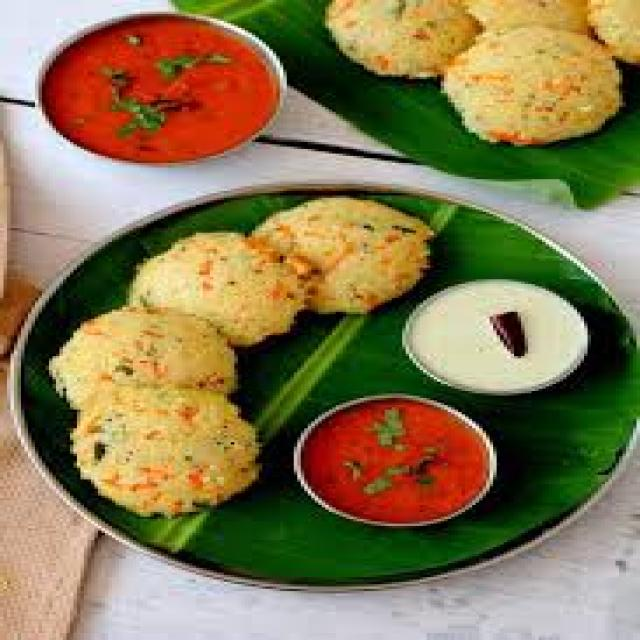IDLI: (60, 387, 259, 524), (447, 31, 623, 139), (258, 198, 422, 311), (141, 240, 306, 346), (322, 0, 487, 82), (75, 319, 225, 397)
